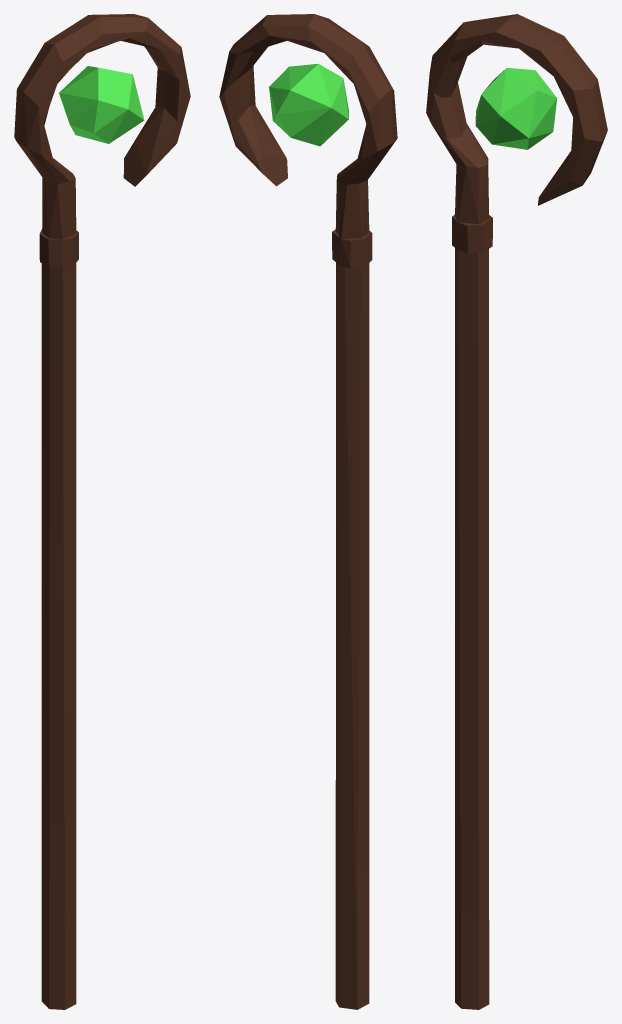
The model's file is Staff1.fbx.
The picture shows the model from 3 angles, left to right: view 1: azimuth 30°, elevation 25°; view 2: azimuth 150°, elevation 25°; view 3: azimuth 330°, elevation 25°; orthographic projection.
Parts seen in each view (by area): view 1: Staff2.001; view 2: Staff2.001; view 3: Staff2.001.
Part boxes in pixels (x1,y1,x2,y2): Staff2.001: [14, 14, 190, 1009]; Staff2.001: [219, 14, 397, 1009]; Staff2.001: [426, 14, 607, 1009].
Bounding box in the file's own units: 26.02 × 142 × 10.95.
